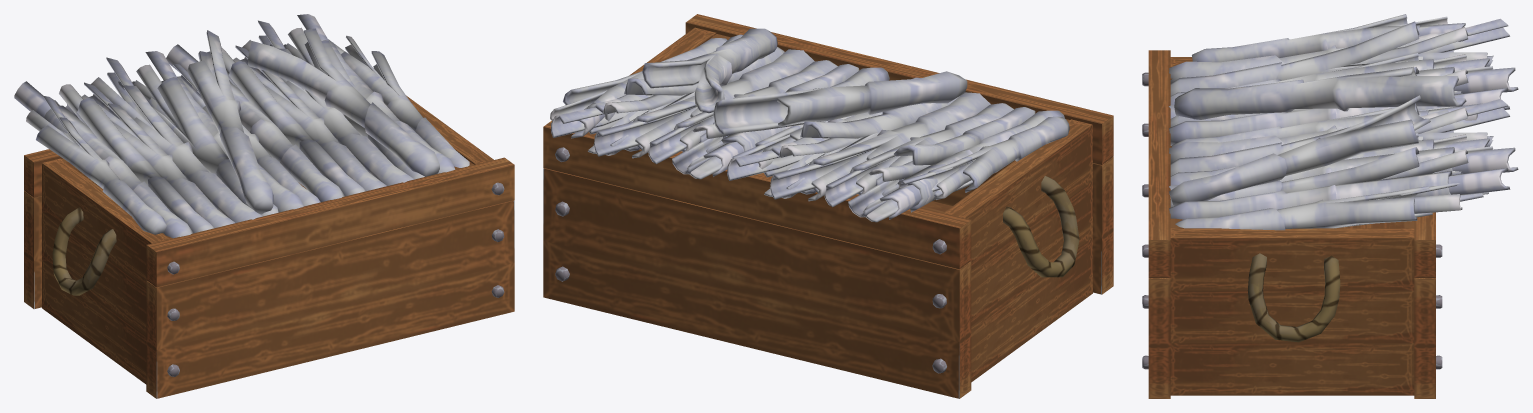
The model's file is FarmCrate_Leek.fbx.
3 views of the same model, side by side, from view 1: azimuth 30°, elevation 25°; view 2: azimuth 150°, elevation 25°; view 3: azimuth 270°, elevation 25° (orthographic). The views are drawn at different scales.
Parts seen in each view (by area): view 1: FarmCrate_Leek; view 2: FarmCrate_Leek; view 3: FarmCrate_Leek.
Part boxes in pixels (<box>): FarmCrate_Leek: <box>14,14,514,398</box>; FarmCrate_Leek: <box>543,14,1113,398</box>; FarmCrate_Leek: <box>1142,14,1518,398</box>.
Bounding box in the file's own units: 71.38 × 36.08 × 51.93.
